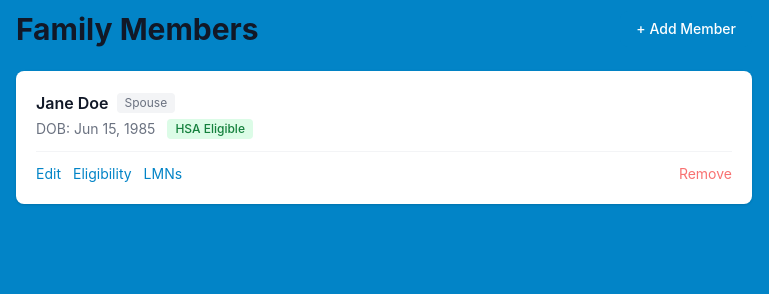
FamilyMembers page › shows eligibility sub-panel when Eligibility button is clicked
Expected: the heading "Jane Doe" is shown, [36,91,108,115]
Click the button "Eligibility" at (102, 174), box [73,164,132,184]
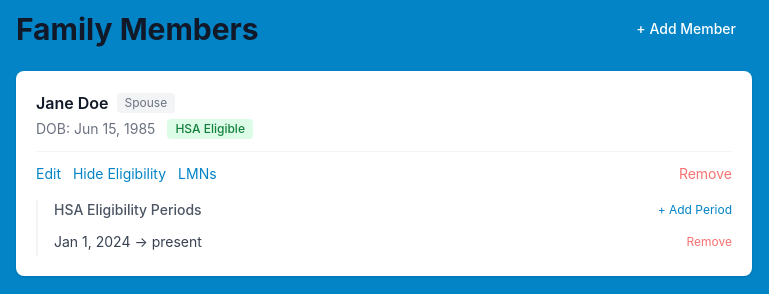
Expected: the text "HSA Eligibility Periods" is shown, [54,200,202,220]
Expected: the text "Jan 1, 2024 → present" is shown, [54,232,202,252]
